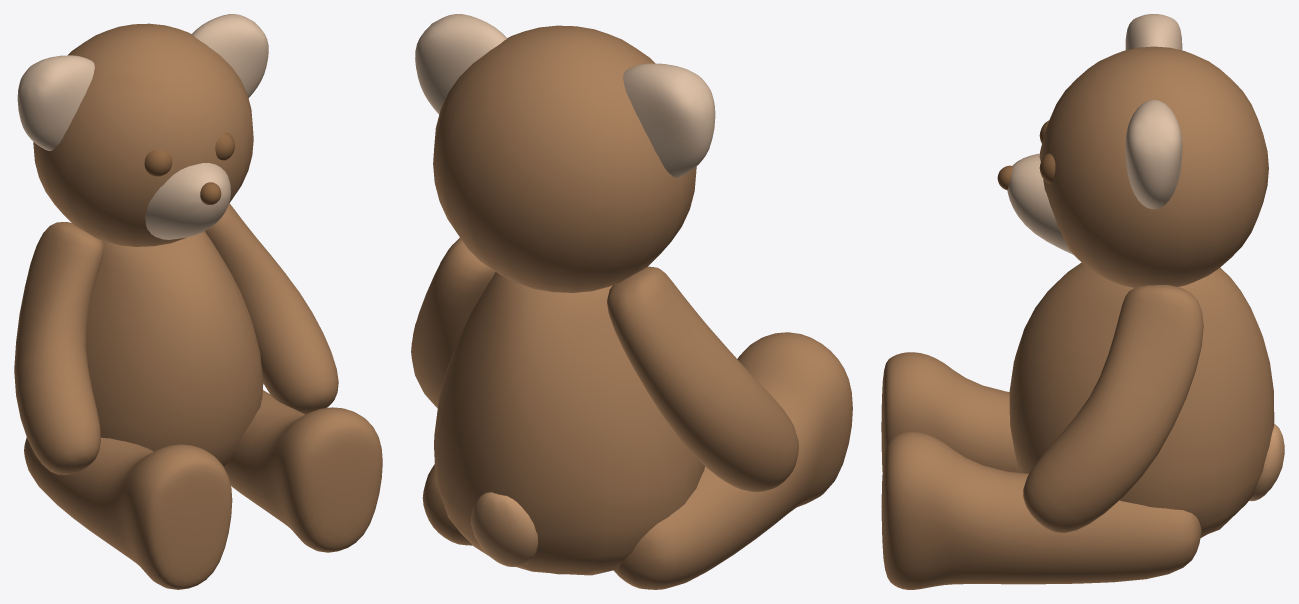
File: Bear 2.glb
3 views of the same model, side by side, from view 1: azimuth 30°, elevation 25°; view 2: azimuth 150°, elevation 25°; view 3: azimuth 270°, elevation 25° (orthographic). The views are drawn at different scales.
Visible parts, largest first — view 1: pCylinder4, pCylinder3, pSphere1, pCylinder5, pCylinder1, pCylinder6, pSphere2; view 2: pCylinder3, pSphere1, pCylinder5, pCylinder4, pCylinder1, pCylinder7; view 3: pCylinder4, pSphere1, pCylinder3, pCylinder5, pCylinder1, pCylinder6, pCylinder7.
Boxes of the visible parts, <box> form: pCylinder4: <box>24,390,382,589</box>; pCylinder3: <box>86,231,263,466</box>; pSphere1: <box>33,23,253,246</box>; pCylinder5: <box>14,203,338,474</box>; pCylinder1: <box>17,14,268,150</box>; pCylinder6: <box>145,163,230,239</box>; pSphere2: <box>144,132,234,176</box>; pCylinder3: <box>434,272,704,575</box>; pSphere1: <box>433,25,696,292</box>; pCylinder5: <box>411,238,798,492</box>; pCylinder4: <box>422,332,852,589</box>; pCylinder1: <box>415,14,715,177</box>; pCylinder7: <box>471,492,538,566</box>; pCylinder4: <box>881,352,1201,589</box>; pSphere1: <box>1039,46,1268,287</box>; pCylinder3: <box>1009,262,1274,538</box>; pCylinder5: <box>1023,284,1203,532</box>; pCylinder1: <box>1125,14,1182,209</box>; pCylinder6: <box>1007,153,1073,254</box>; pCylinder7: <box>1249,424,1284,501</box>.
Size of the model in its own units: 8.67 by 12.52 by 9.38.
Materials: 4 (4 with a texture image).
